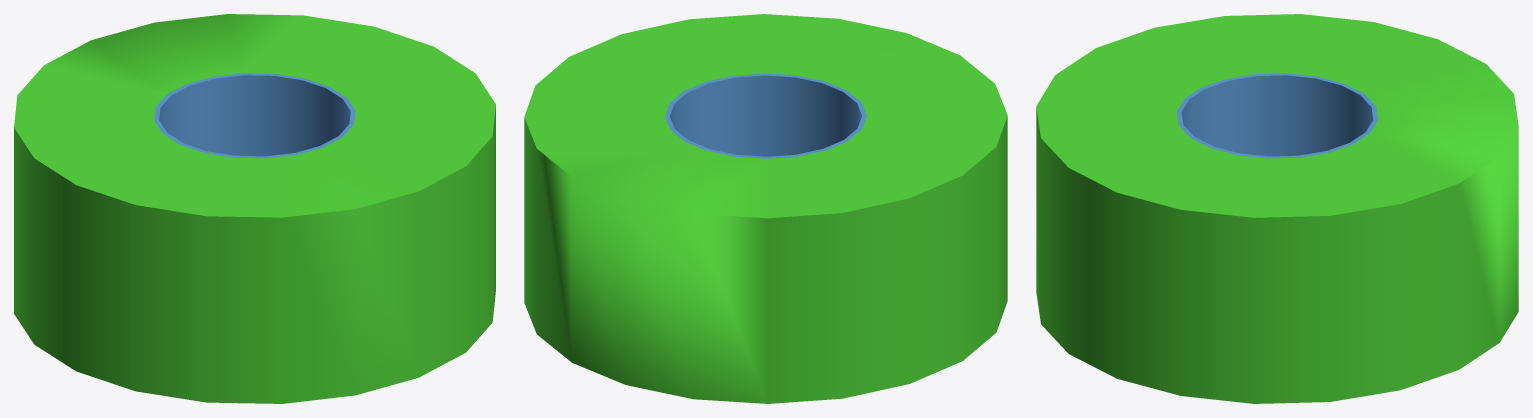
File: duck_tape.fbx
The picture shows the model from 3 angles, left to right: view 1: azimuth 30°, elevation 25°; view 2: azimuth 150°, elevation 25°; view 3: azimuth 270°, elevation 25°; orthographic projection.
Visible parts, largest first — view 1: Cylinder; view 2: Cylinder; view 3: Cylinder.
Boxes of the visible parts, x1,y1,x2,y2 form: Cylinder: [14, 14, 495, 403]; Cylinder: [524, 14, 1007, 403]; Cylinder: [1036, 14, 1518, 403].
Size of the model in its own units: 14.98 by 6.38 by 14.98.
